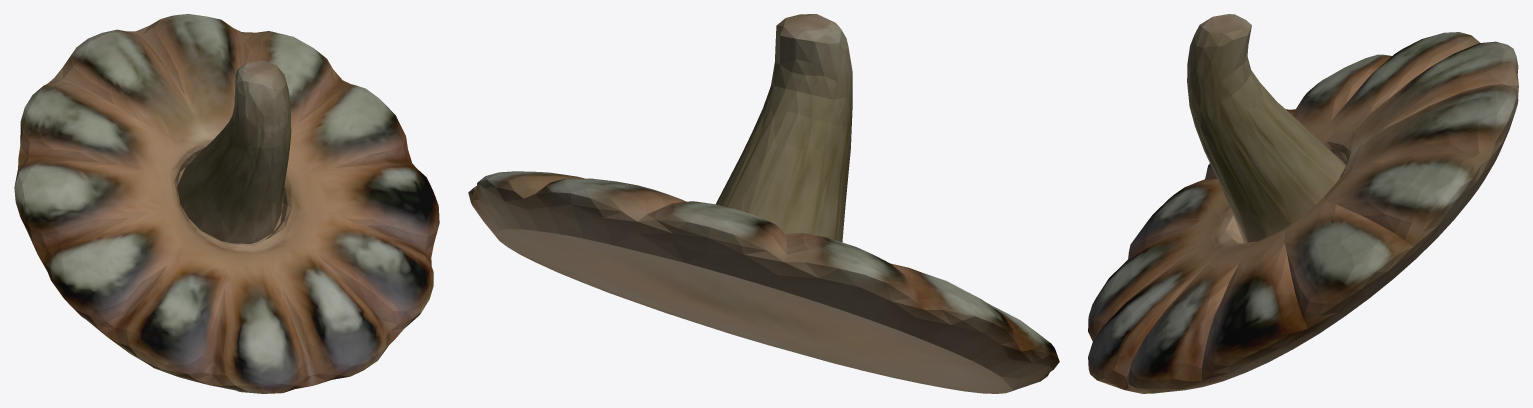
Rendered from pumpkin_t1.glb.
3 renders of one model, left to right at view 1: azimuth 30°, elevation 25°; view 2: azimuth 150°, elevation 25°; view 3: azimuth 270°, elevation 25°, orthographic. The views are drawn at different scales.
Visible parts, largest first — view 1: world; view 2: world; view 3: world.
Boxes of the visible parts, bbox=[...] form: world: bbox=[14, 14, 439, 393]; world: bbox=[468, 14, 1059, 393]; world: bbox=[1088, 14, 1518, 393].
Bounding box in the file's own units: 1 × 0.7046 × 0.8236.
